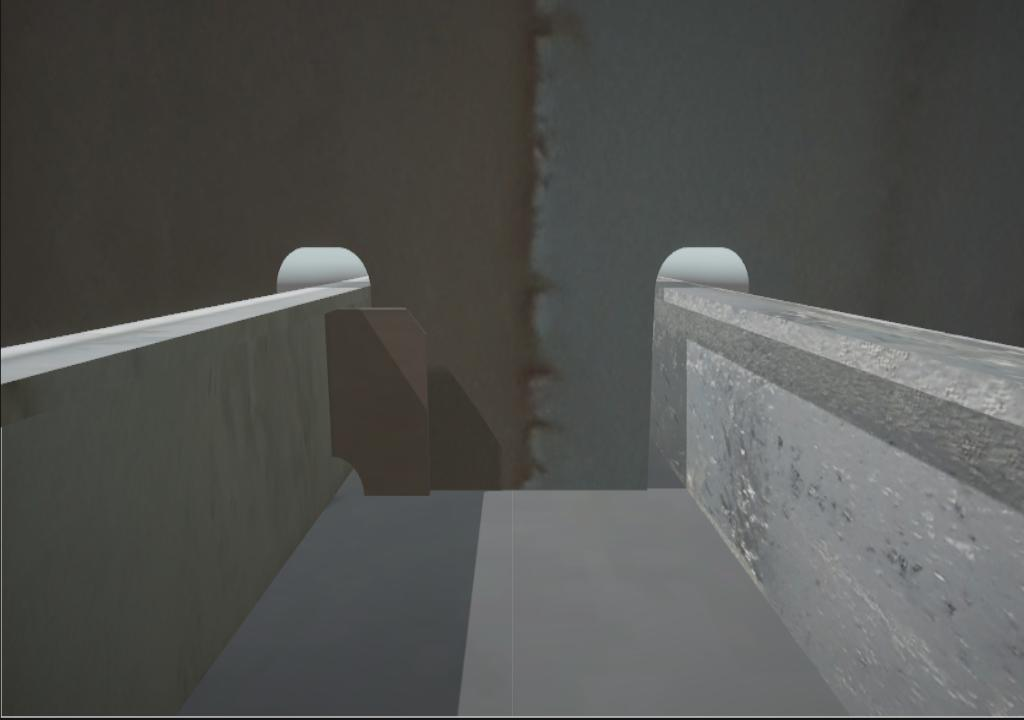fillet_yong_jeop_jang: (430, 485, 651, 494)
plate_CP04: (325, 308, 429, 497)
